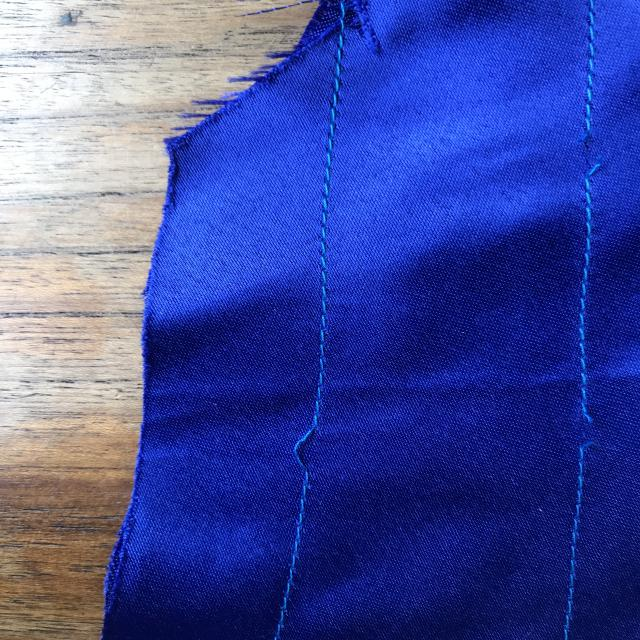broken: (568, 116, 628, 191), (557, 388, 607, 474)
good: (299, 128, 345, 241)
skip: (272, 407, 335, 495)
